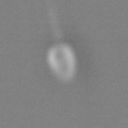normal: (39, 1, 67, 40)
